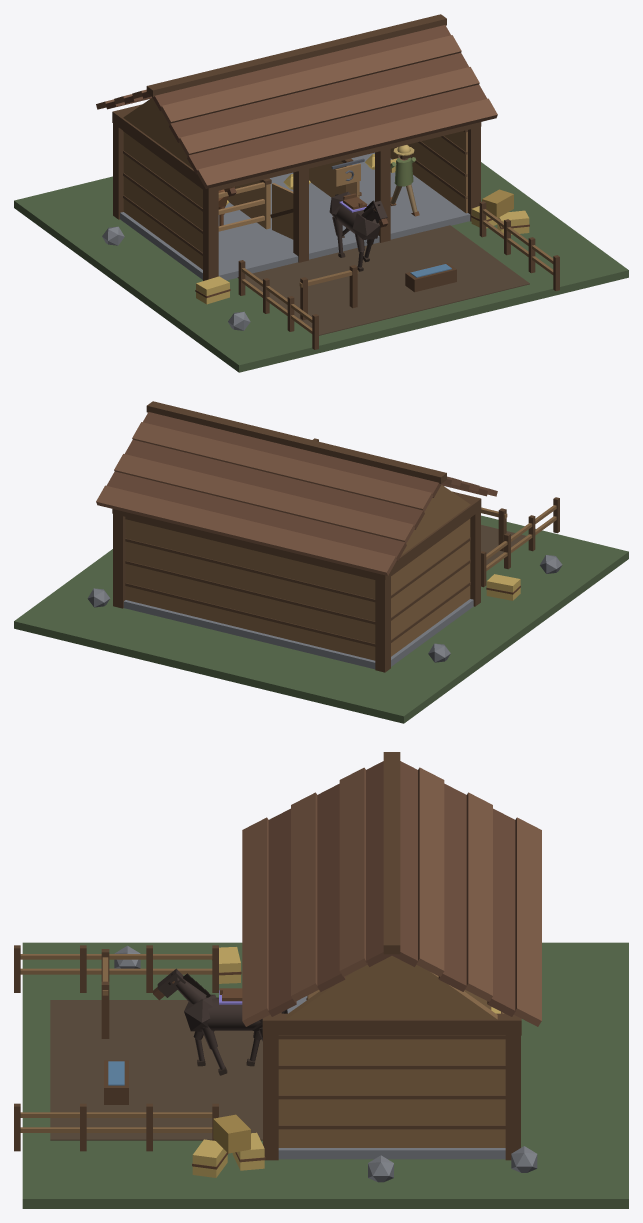
Rendered from Stable.glb.
The picture shows the model from 3 angles, top to bottom: view 1: azimuth 30°, elevation 25°; view 2: azimuth 150°, elevation 25°; view 3: azimuth 270°, elevation 25°; orthographic projection. The views are drawn at different scales.
Visible parts, largest first — view 1: shingle_row (×6), ground, yard_dirt, plinth, wall_side (×2), post (×5), ridge, partition (×2), gable, beam_front, hay_bale (×2), beam_side (+3 smaller); view 2: ground, shingle_row (×6), wall_back, wall_side, post (×3), ridge, batten_back (×4), plinth, gable, beam_back, beam_side, hay_bale (+1 smaller); view 3: ground, shingle_row (×12), yard_dirt, wall_side, gable, batten_side (×4), beam_side, post (×2), ridge, hay_bale (×4), plinth, barrel (+2 smaller).
Part boxes in pixels (x1,y1,x2,y2): shingle_row (×6): (152,25,497,188); ground: (14,162,628,372); yard_dirt: (237,225,529,335); plinth: (120,152,470,280); wall_side (×2): (123,131,467,269); post (×5): (113,109,480,280); ridge: (146,14,446,96); partition (×2): (227,161,351,229); gable: (123,98,192,168); beam_front: (205,122,481,192); hay_bale (×2): (196,189,513,304); beam_side: (115,113,205,190); ground: (14,515,628,723); shingle_row (×6): (96,412,441,575); wall_back: (125,519,375,660); wall_side: (391,519,470,656); post (×3): (113,496,480,672); ridge: (146,401,446,483); batten_back (×4): (125,517,375,646); plinth: (123,599,473,669); gable: (401,484,470,555); beam_back: (112,509,391,579); beam_side: (391,500,478,575); hay_bale: (486,574,520,600); ground: (22,942,628,1208); shingle_row (×12): (242,761,541,1026); yard_dirt: (50,1000,262,1140); wall_side: (278,1039,505,1147); gable: (286,956,497,1019); batten_side (×4): (278,1035,505,1129); beam_side: (270,1013,513,1035); post (×2): (263,1015,520,1160); ridge: (383,752,400,954); hay_bale (×4): (192,947,264,1177); plinth: (278,996,505,1159); barrel: (200,997,260,1030).
Size of the model in its own units: 11 by 4.65 by 11.16.
